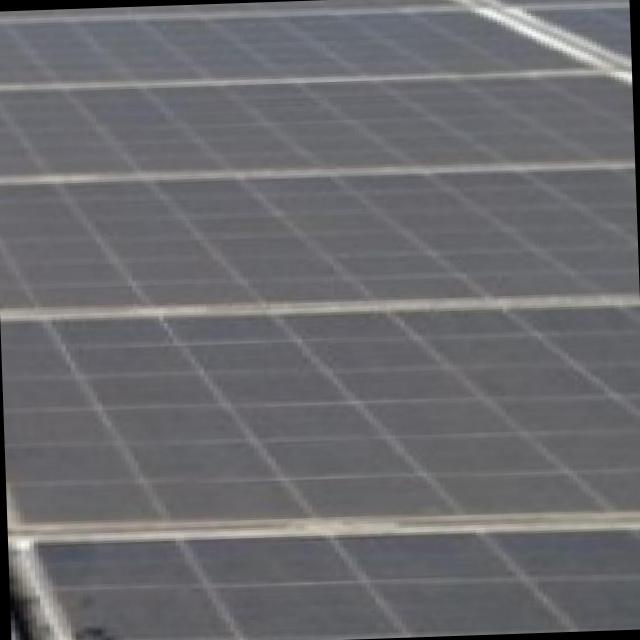faulty: (0, 13, 630, 640)
